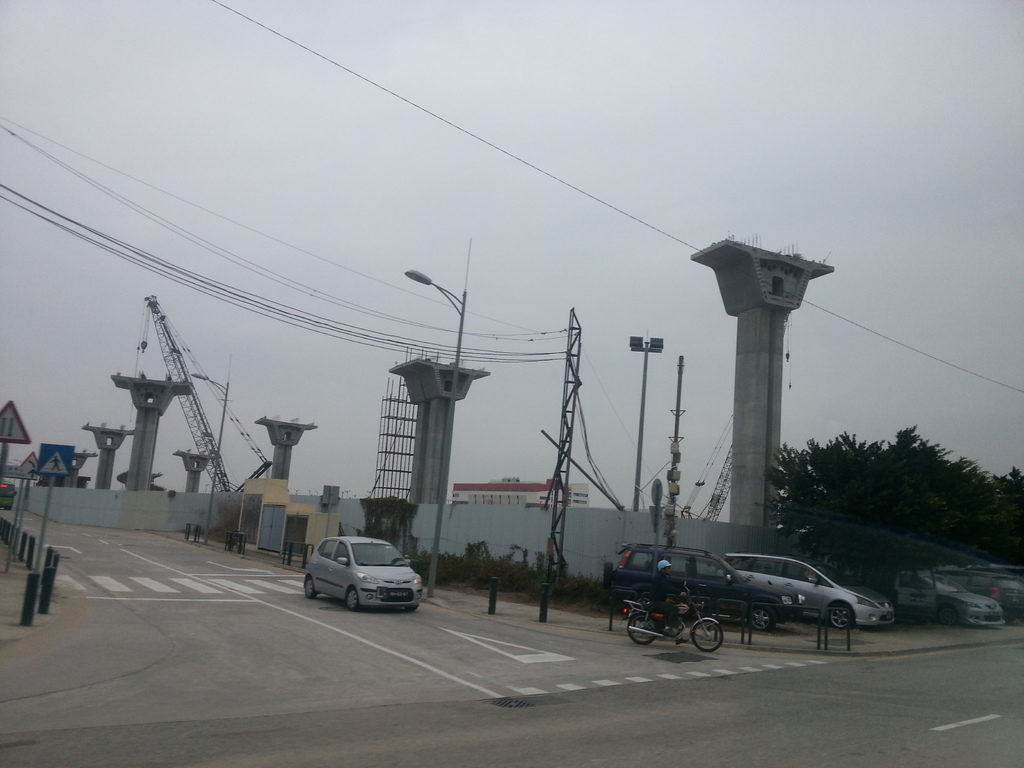car: (565, 522, 796, 648), (721, 540, 891, 650), (295, 532, 439, 638), (875, 549, 1008, 633)
